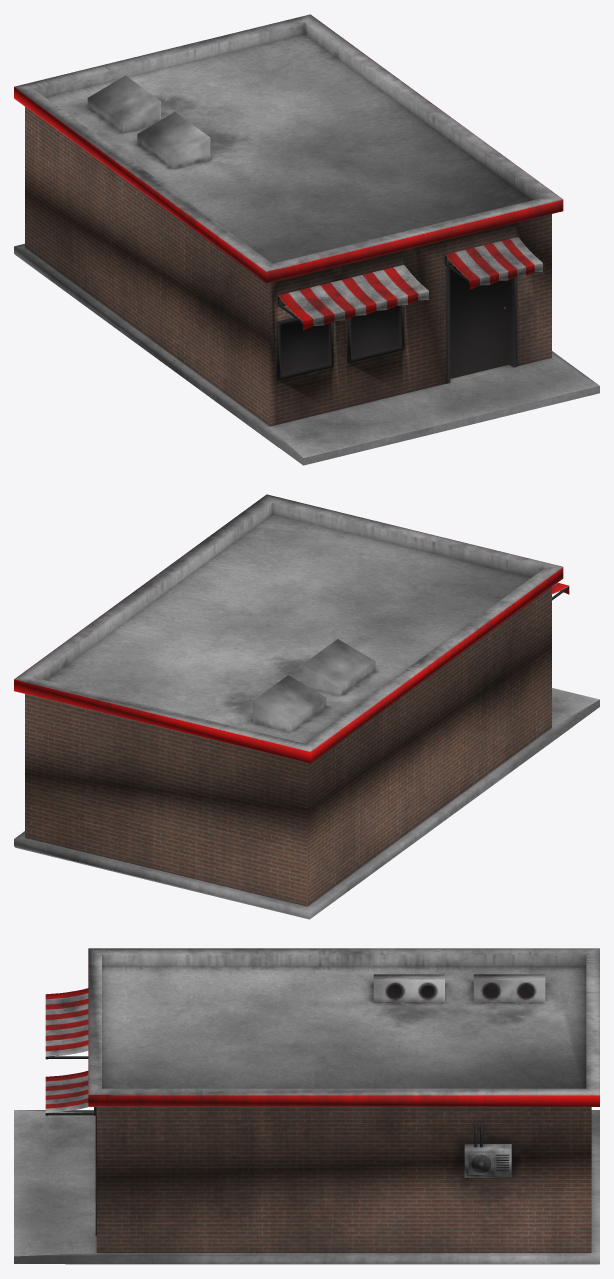
Rendered from store.glb.
The picture shows the model from 3 angles, top to bottom: view 1: azimuth 30°, elevation 25°; view 2: azimuth 150°, elevation 25°; view 3: azimuth 270°, elevation 25°; orthographic projection.
Parts seen in each view (by area): view 1: Store; view 2: Store, Куб; view 3: Store, Куб.
Boxes of the visible parts, x1,y1,x2,y2 form: Store: (14,14,599,465); Store: (14,494,599,918); Куб: (15,727,572,919); Store: (14,948,599,1263); Куб: (65,1264,599,1264).
Bounding box in the file's own units: 4.26 × 2.42 × 7.1.
Materials: 1 (1 with a texture image).
